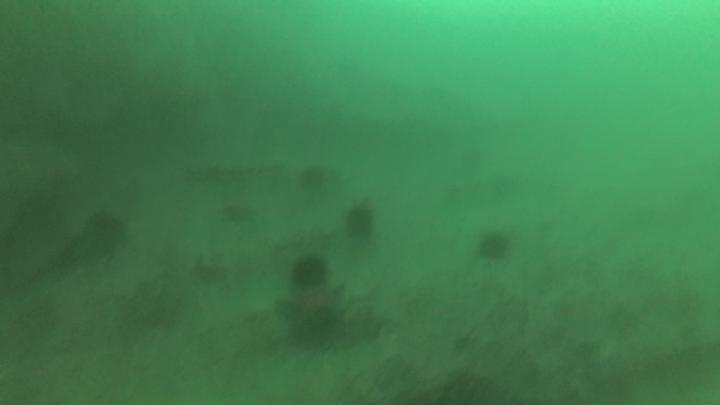echinus: (82, 213, 126, 256), (291, 255, 328, 287), (349, 206, 374, 239), (479, 232, 505, 257), (300, 165, 324, 187)
scallop: (280, 279, 349, 343)
